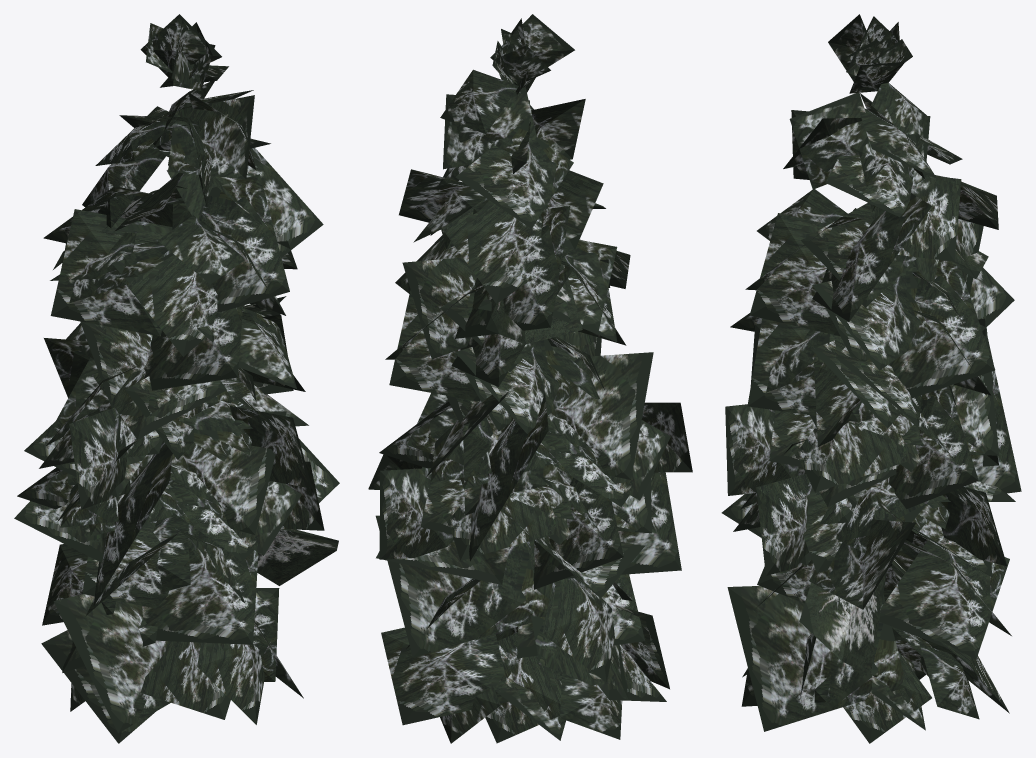
3 renders of one model, left to right at view 1: azimuth 30°, elevation 25°; view 2: azimuth 150°, elevation 25°; view 3: azimuth 270°, elevation 25°, orthographic. The views are drawn at different scales.
Visible parts, largest first — view 1: 1_zw_02_02; view 2: 1_zw_02_02; view 3: 1_zw_02_02.
Part boxes in pixels (bbox=[...]): 1_zw_02_02: bbox=[14, 14, 339, 743]; 1_zw_02_02: bbox=[368, 14, 692, 743]; 1_zw_02_02: bbox=[721, 14, 1021, 743].
Bounding box in the file's own units: 2.88 × 6.46 × 2.53.
Materials: 1 (1 with a texture image).
